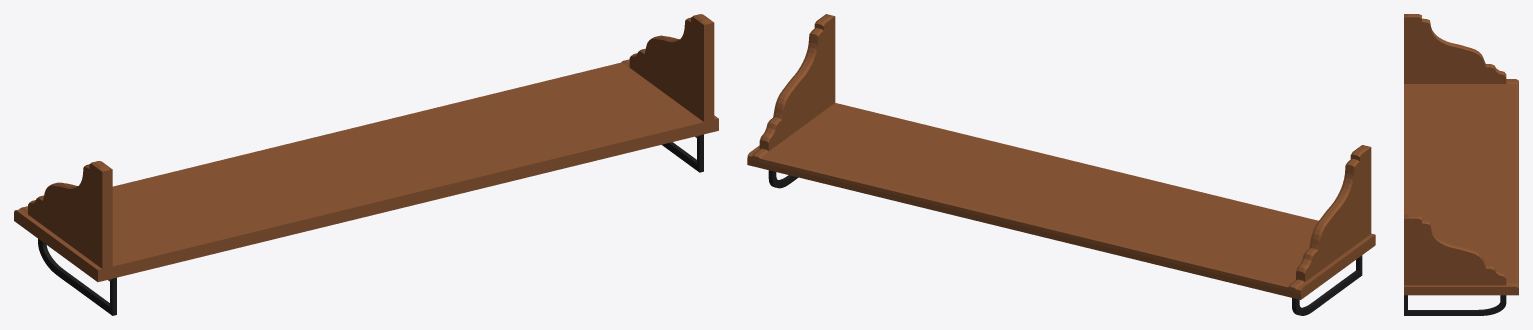
File: Shelf_kitchen.fbx
3 renders of one model, left to right at view 1: azimuth 30°, elevation 25°; view 2: azimuth 150°, elevation 25°; view 3: azimuth 270°, elevation 25°, orthographic. The views are drawn at different scales.
Parts seen in each view (by area): view 1: Shelf; view 2: Shelf; view 3: Shelf.
Boxes of the visible parts, x1,y1,x2,y2 form: Shelf: (14,14,718,315); Shelf: (747,14,1375,315); Shelf: (1404,14,1518,315).
Bounding box in the file's own units: 334 × 76.13 × 78.13.
